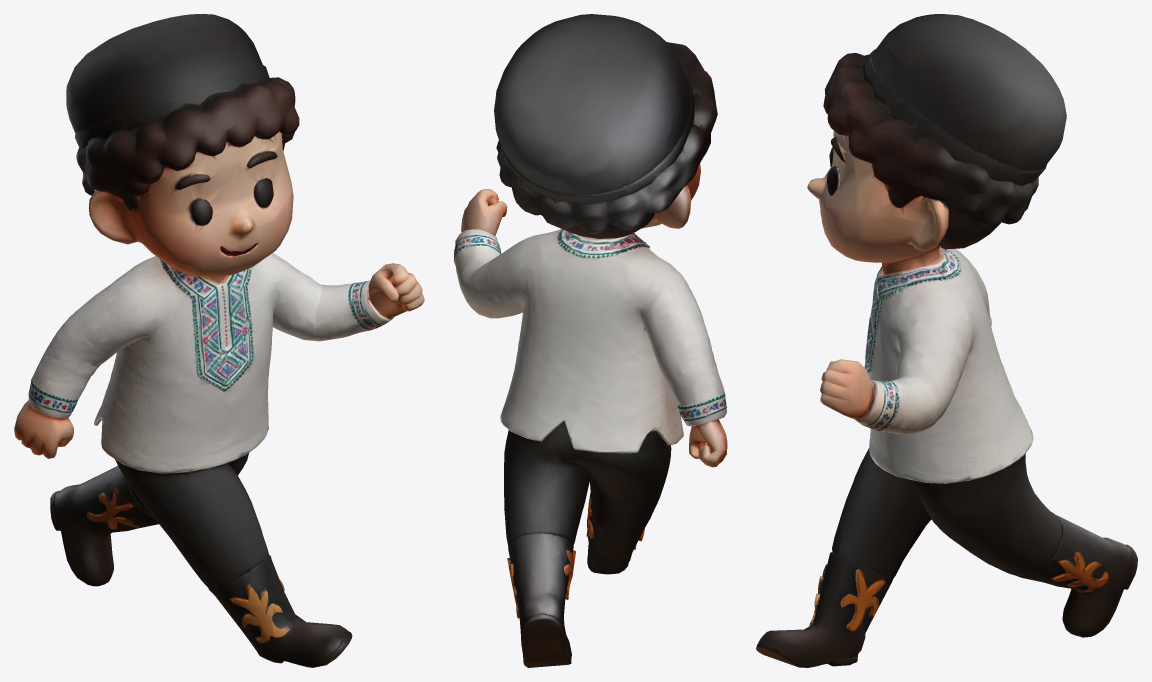
Rendered from cute.glb.
The picture shows the model from 3 angles, left to right: view 1: azimuth 30°, elevation 25°; view 2: azimuth 150°, elevation 25°; view 3: azimuth 270°, elevation 25°; orthographic projection. The views are drawn at different scales.
Parts seen in each view (by area): view 1: Supplied Uyghur cute; view 2: Supplied Uyghur cute; view 3: Supplied Uyghur cute.
Boxes of the visible parts, x1,y1,x2,y2 form: Supplied Uyghur cute: [14, 14, 424, 667]; Supplied Uyghur cute: [454, 14, 727, 667]; Supplied Uyghur cute: [756, 14, 1137, 667].
Bounding box in the file's own units: 0.5706 × 0.9803 × 0.5564.
1 material, 1 textured.
